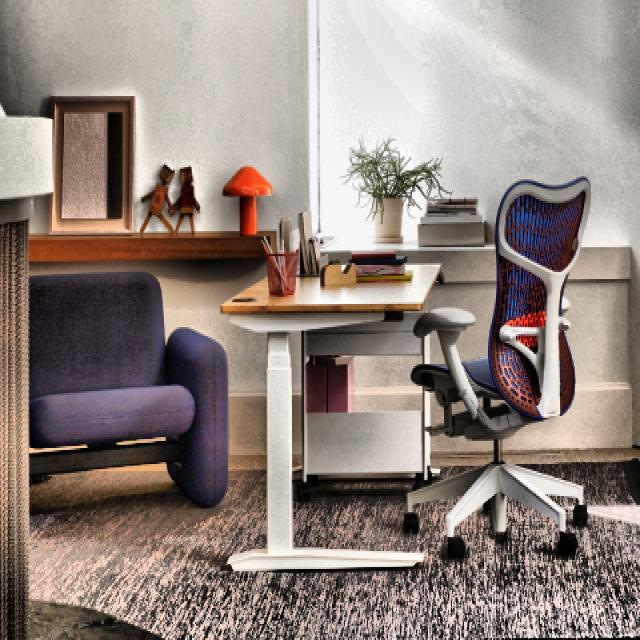cadeira: (400, 168, 596, 566)
